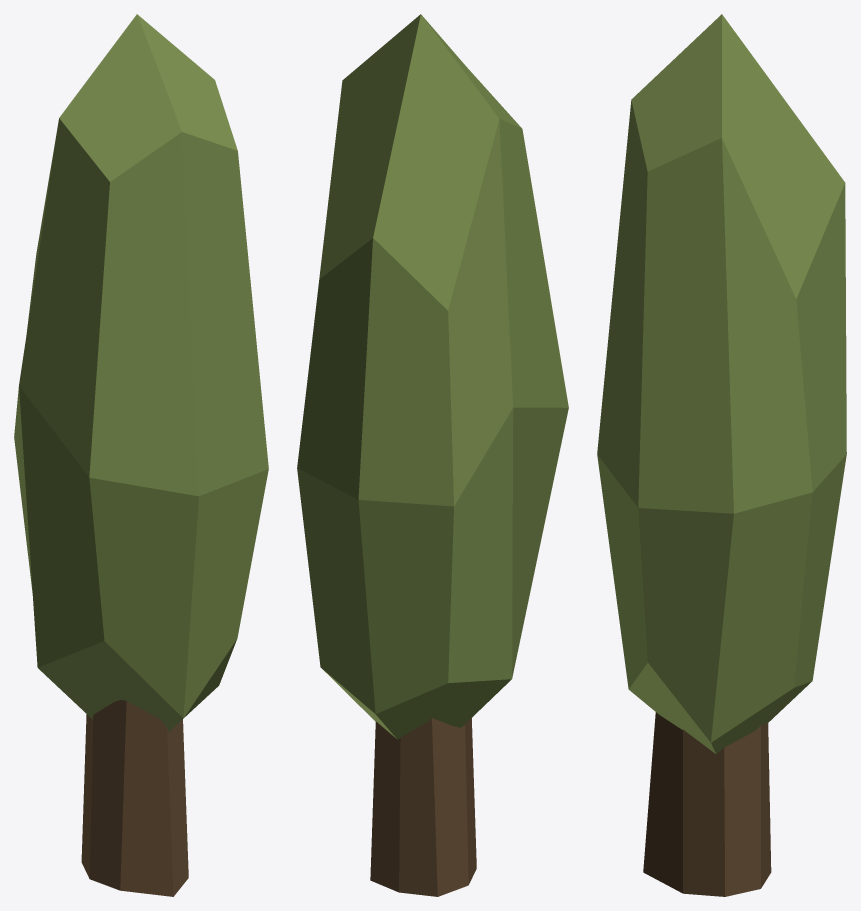
File: petit_cedre.fbx
The picture shows the model from 3 angles, left to right: view 1: azimuth 30°, elevation 25°; view 2: azimuth 150°, elevation 25°; view 3: azimuth 270°, elevation 25°; orthographic projection.
Visible parts, largest first — view 1: Cube.003; view 2: Cube.003; view 3: Cube.003.
Boxes of the visible parts, box(x1,y1,x2,y2) form: Cube.003: box(14, 14, 268, 896); Cube.003: box(297, 14, 568, 896); Cube.003: box(597, 14, 846, 896).
Bounding box in the file's own units: 427 × 1605 × 421.
